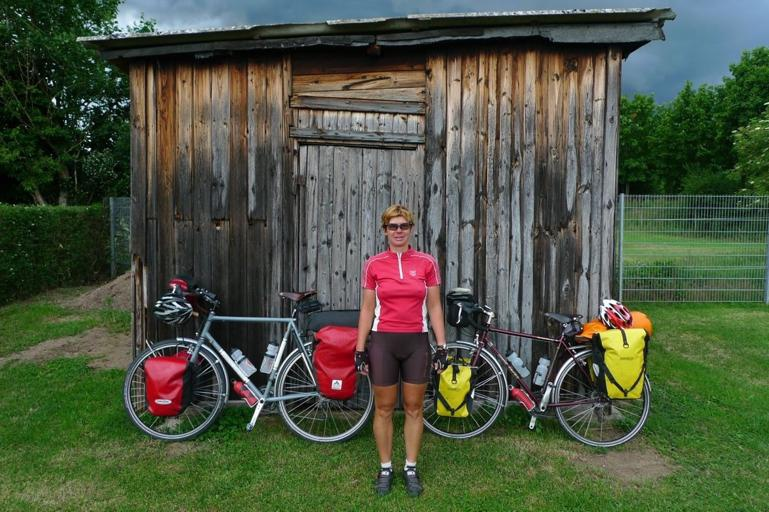non-vehicle: (123, 274, 373, 442), (422, 286, 651, 447)
